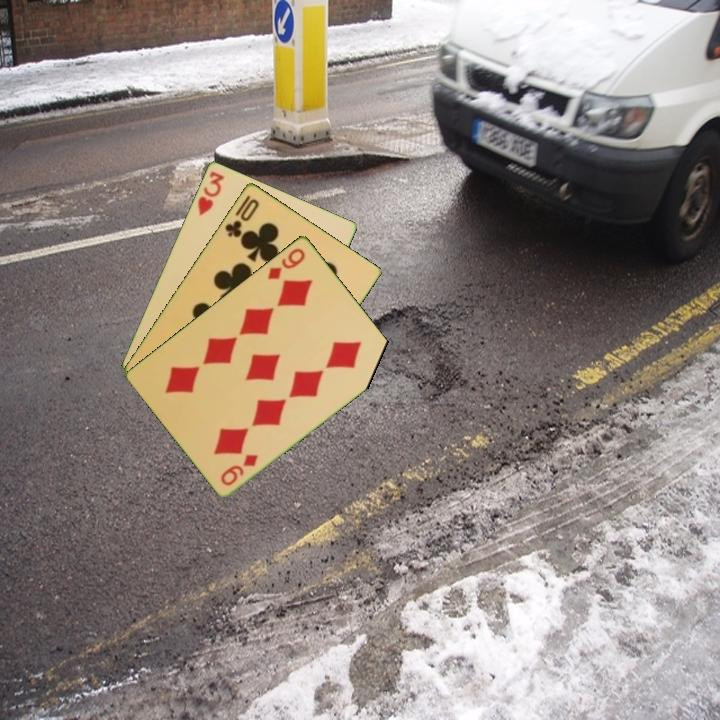10c: (221, 195, 262, 240)
3h: (194, 167, 227, 218)
9d: (264, 244, 308, 282), (217, 450, 261, 488)
